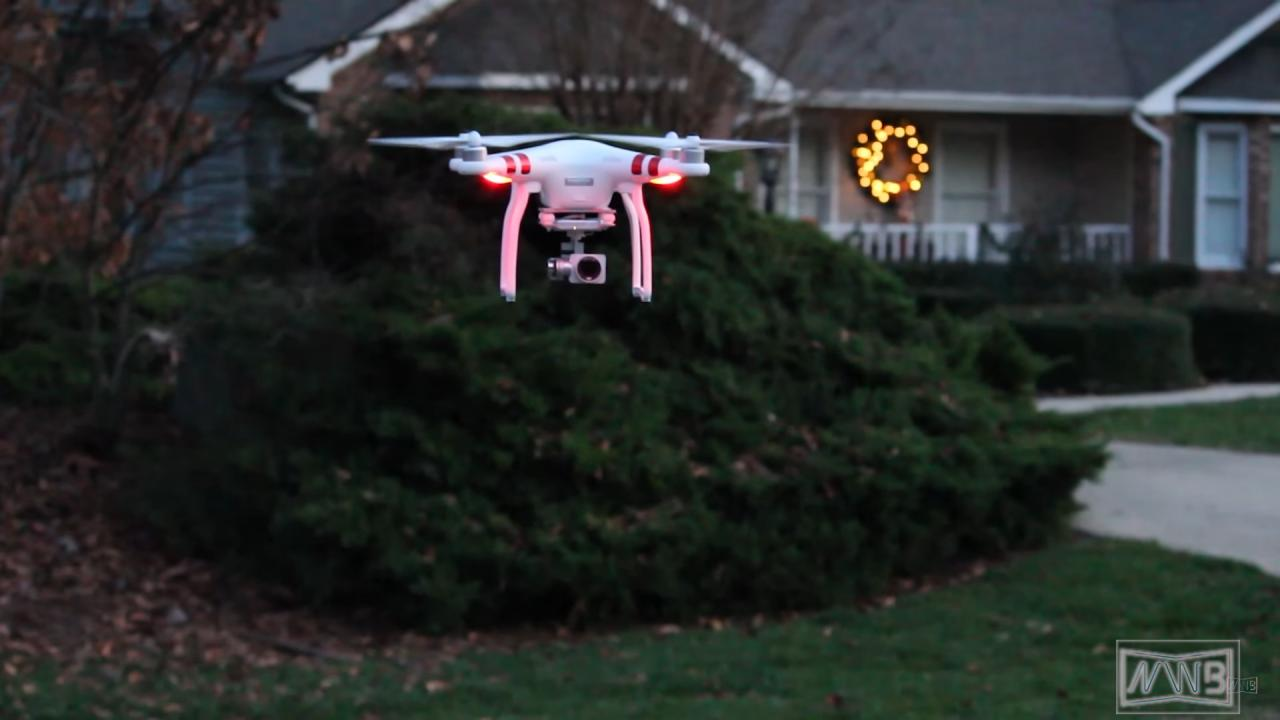Drone: (361, 120, 802, 312)
